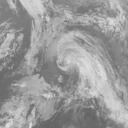cyclone: (53, 32, 112, 88)
